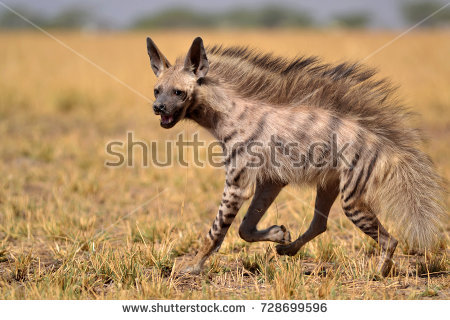hyena: (140, 33, 441, 287)
